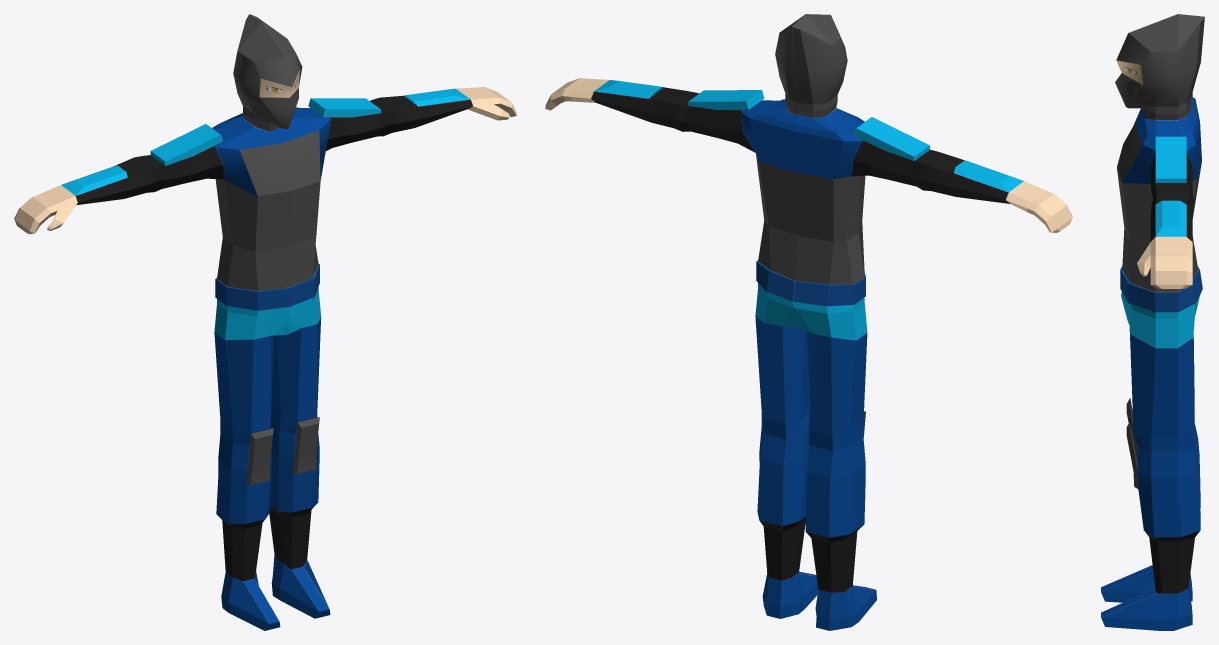
The model's file is Ninja_Completed_UV.fbx.
3 renders of one model, left to right at view 1: azimuth 30°, elevation 25°; view 2: azimuth 150°, elevation 25°; view 3: azimuth 270°, elevation 25°, orthographic. The views are drawn at different scales.
Visible parts, largest first — view 1: pCube1; view 2: pCube1; view 3: pCube1.
Part boxes in pixels (<box>): pCube1: <box>14,14,516,630</box>; pCube1: <box>545,14,1072,630</box>; pCube1: <box>1101,14,1204,630</box>.
Size of the model in its own units: 25.47 by 28.73 by 4.54.
